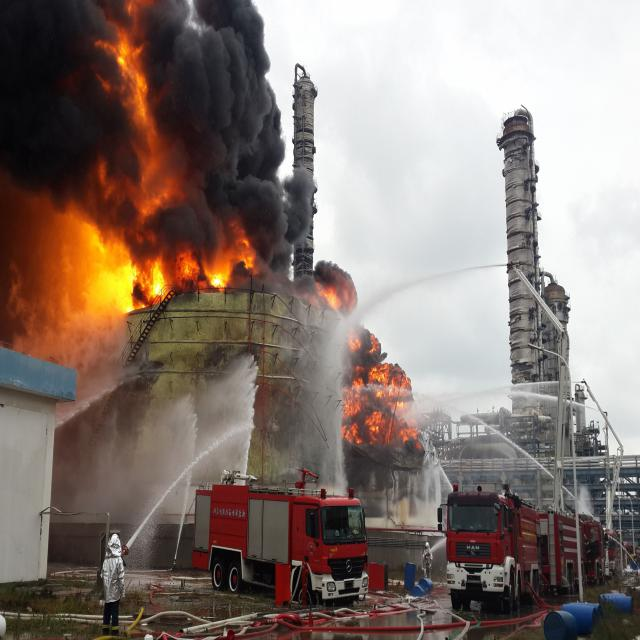fire: (63, 180, 270, 323), (314, 263, 427, 457), (97, 4, 152, 135)
